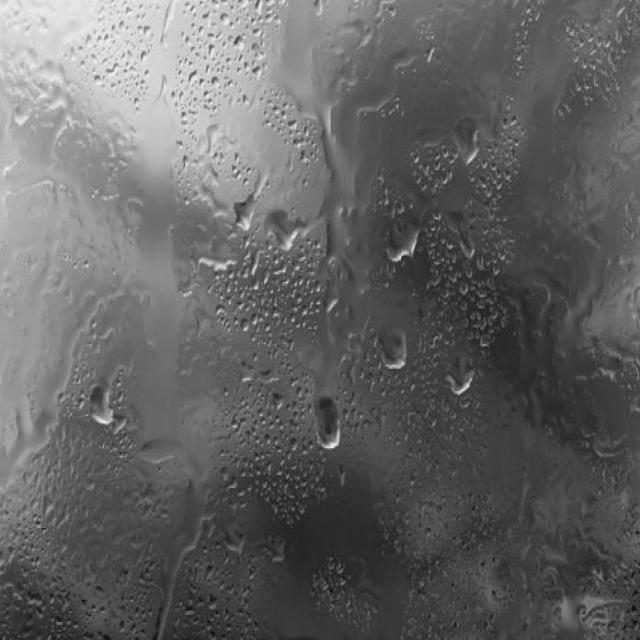raindrop: (377, 191, 435, 282), (310, 378, 353, 471), (74, 367, 122, 437), (449, 100, 487, 178), (374, 316, 414, 387)
